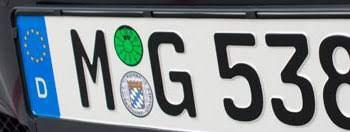3: (263, 33, 317, 128)
5: (212, 32, 264, 123)
8: (318, 33, 350, 131)
G: (146, 31, 198, 119)
M: (69, 28, 116, 113)
